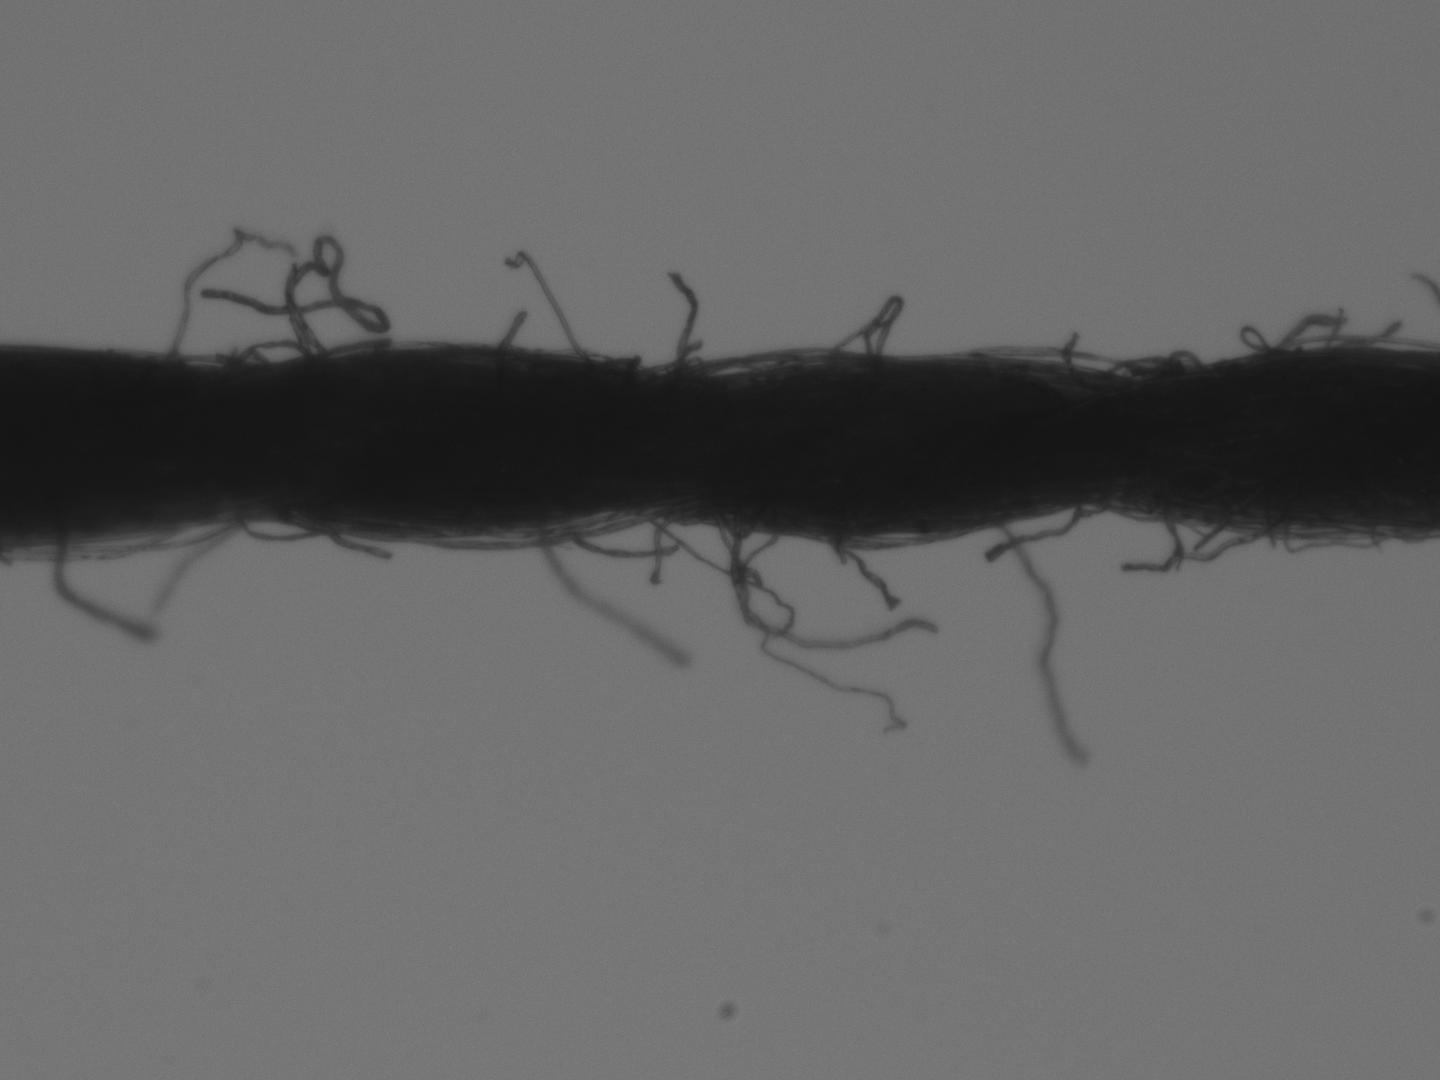loop_fiber: (404, 506, 629, 552), (670, 346, 873, 379), (966, 344, 1144, 373), (824, 296, 903, 362), (234, 512, 334, 543), (1287, 521, 1388, 549), (822, 529, 952, 549), (1290, 335, 1425, 352), (1100, 354, 1183, 381), (234, 341, 306, 366), (1159, 351, 1202, 376)
protruding_fiber: (734, 532, 937, 647), (996, 523, 1089, 761), (48, 540, 142, 642), (503, 253, 574, 356), (979, 507, 1100, 565), (1125, 520, 1179, 575), (562, 532, 677, 557), (667, 270, 696, 364), (317, 529, 390, 562), (493, 310, 526, 351), (1060, 335, 1083, 369)
